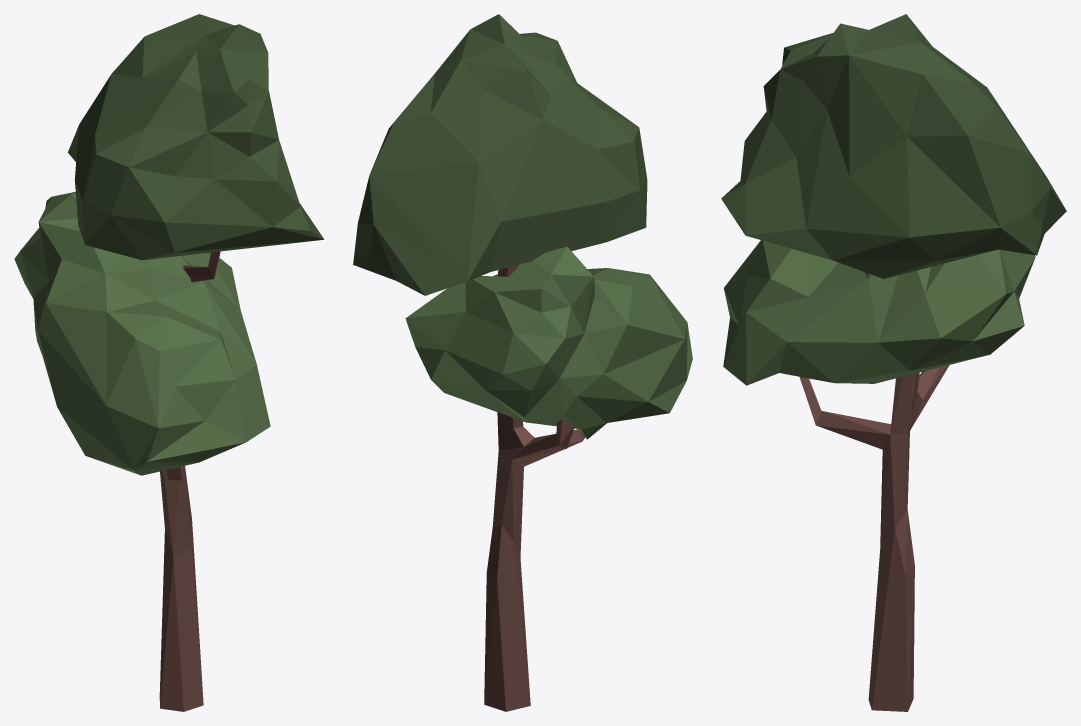
Rendered from CommonTree_3.lod2.glb.
3 views of the same model, side by side, from view 1: azimuth 30°, elevation 25°; view 2: azimuth 150°, elevation 25°; view 3: azimuth 270°, elevation 25° (orthographic). The views are drawn at different scales.
Parts seen in each view (by area): view 1: CommonTree_3; view 2: CommonTree_3; view 3: CommonTree_3.
Boxes of the visible parts, box(x1,y1,x2,y2) form: CommonTree_3: box(14, 14, 324, 711); CommonTree_3: box(353, 14, 692, 711); CommonTree_3: box(721, 14, 1066, 711).
Bounding box in the file's own units: 1.27 × 3.45 × 1.55.
